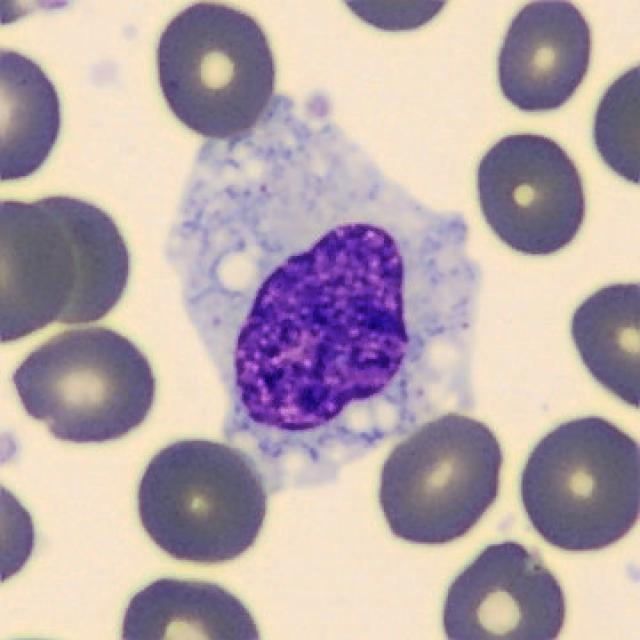Monocito: (165, 94, 476, 492)
